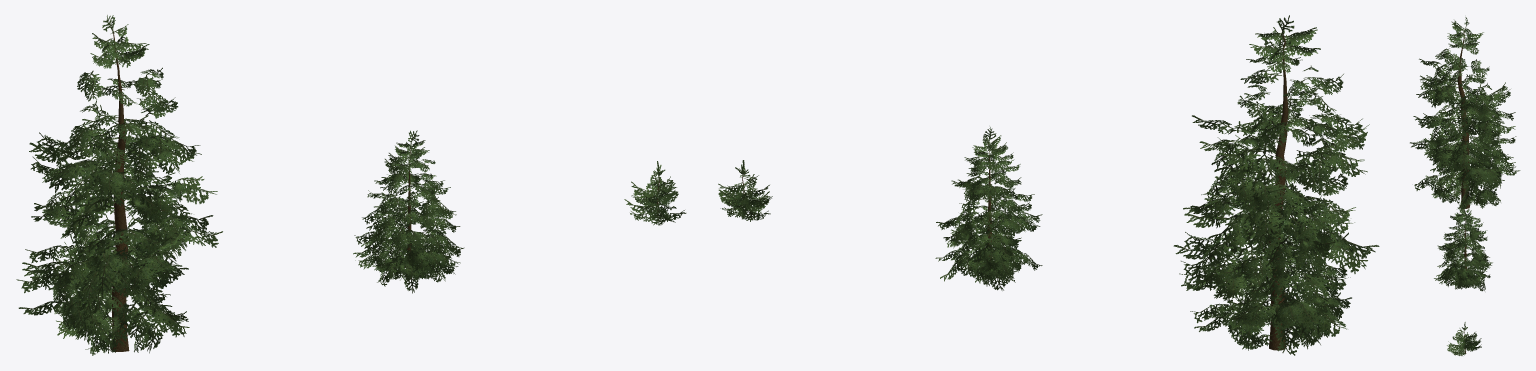
Rendered from tree-fir-distant.glb.
The picture shows the model from 3 angles, left to right: view 1: azimuth 30°, elevation 25°; view 2: azimuth 150°, elevation 25°; view 3: azimuth 270°, elevation 25°; orthographic projection. The views are drawn at different scales.
Visible parts, largest first — view 1: Christmas tree_LOD2, Christmas tree_2_LOD2, Christmas tree_3_LOD2; view 2: Christmas tree_LOD2, Christmas tree_2_LOD2, Christmas tree_3_LOD2; view 3: Christmas tree_LOD2, Christmas tree_2_LOD2, Christmas tree_3_LOD2.
Part boxes in pixels (left/top/right/bottom): Christmas tree_LOD2: left=16, top=15, right=222, bottom=355; Christmas tree_2_LOD2: left=353, top=130, right=464, bottom=293; Christmas tree_3_LOD2: left=624, top=161, right=686, bottom=225; Christmas tree_LOD2: left=1173, top=15, right=1379, bottom=355; Christmas tree_2_LOD2: left=935, top=127, right=1042, bottom=290; Christmas tree_3_LOD2: left=718, top=160, right=772, bottom=221; Christmas tree_LOD2: left=1410, top=17, right=1520, bottom=210; Christmas tree_2_LOD2: left=1434, top=203, right=1492, bottom=291; Christmas tree_3_LOD2: left=1447, top=322, right=1481, bottom=355.
Size of the model in its own units: 18.66 by 9.33 by 5.04.
2 materials, 2 textured.
